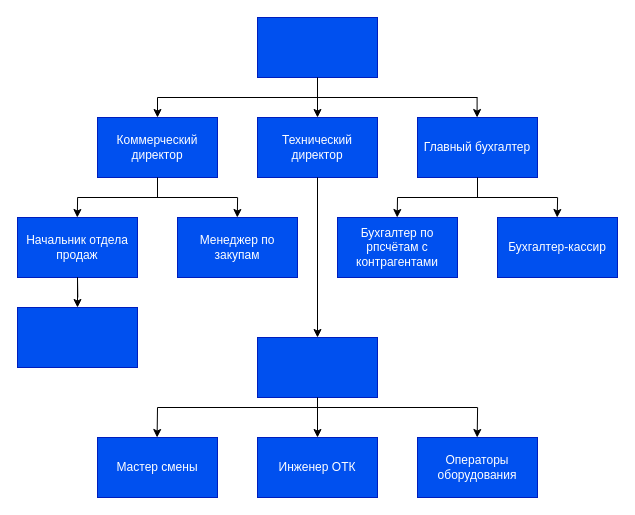
The diagram is 635 pixels wide and 515 high, and some of its shapes have lost their labels. The shapes that lost their labels are listed below. From the top down, each one's centre as x and y in pixels, then its label:
At point (317, 47): "Генеральный директор".
At point (77, 337): "Менеджеры по продажам".
At point (317, 367): "Начальник производственного цеха".
